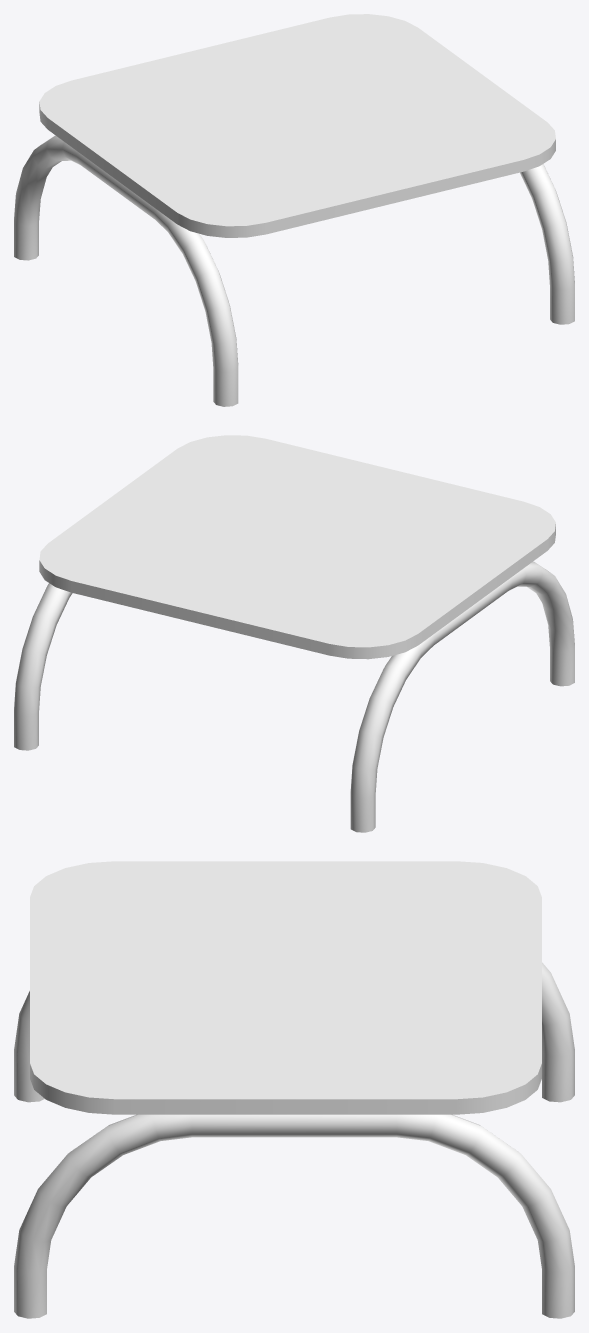
Rendered from table.fbx.
3 views of the same model, one above another, from view 1: azimuth 30°, elevation 25°; view 2: azimuth 150°, elevation 25°; view 3: azimuth 270°, elevation 25° (orthographic). The views are drawn at different scales.
Parts seen in each view (by area): view 1: table; view 2: table; view 3: table.
Part boxes in pixels (x1,y1,x2,y2): table: (14,14,574,406); table: (14,435,574,832); table: (14,861,574,1318).
Size of the model in its own units: 6.6 by 2.89 by 6.57.
